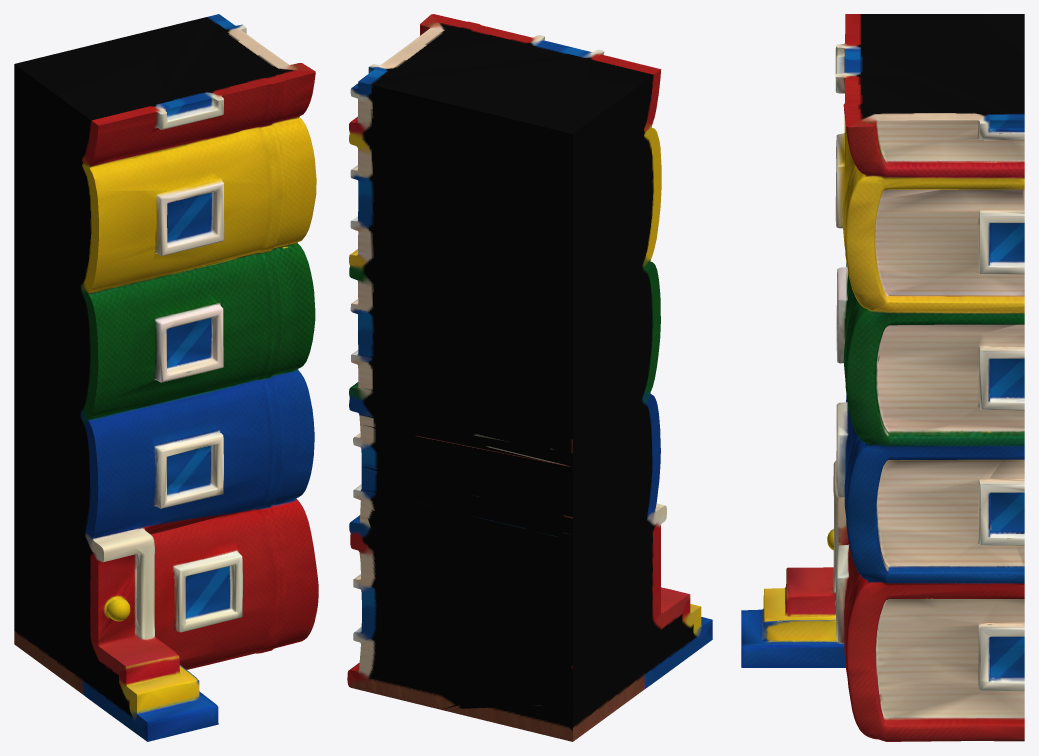
Rendered from 2-ground-floor-front-right.fbx.
3 views of the same model, side by side, from view 1: azimuth 30°, elevation 25°; view 2: azimuth 150°, elevation 25°; view 3: azimuth 270°, elevation 25° (orthographic). The views are drawn at different scales.
Visible parts, largest first — view 1: ground-floor-front-right; view 2: ground-floor-front-right; view 3: ground-floor-front-right.
Part boxes in pixels (<box>): ground-floor-front-right: <box>14,14,318,741</box>; ground-floor-front-right: <box>347,14,712,741</box>; ground-floor-front-right: <box>741,14,1024,741</box>.
Size of the model in its own units: 4391 by 10959 by 4565.
Materials: 1 (1 with a texture image).
